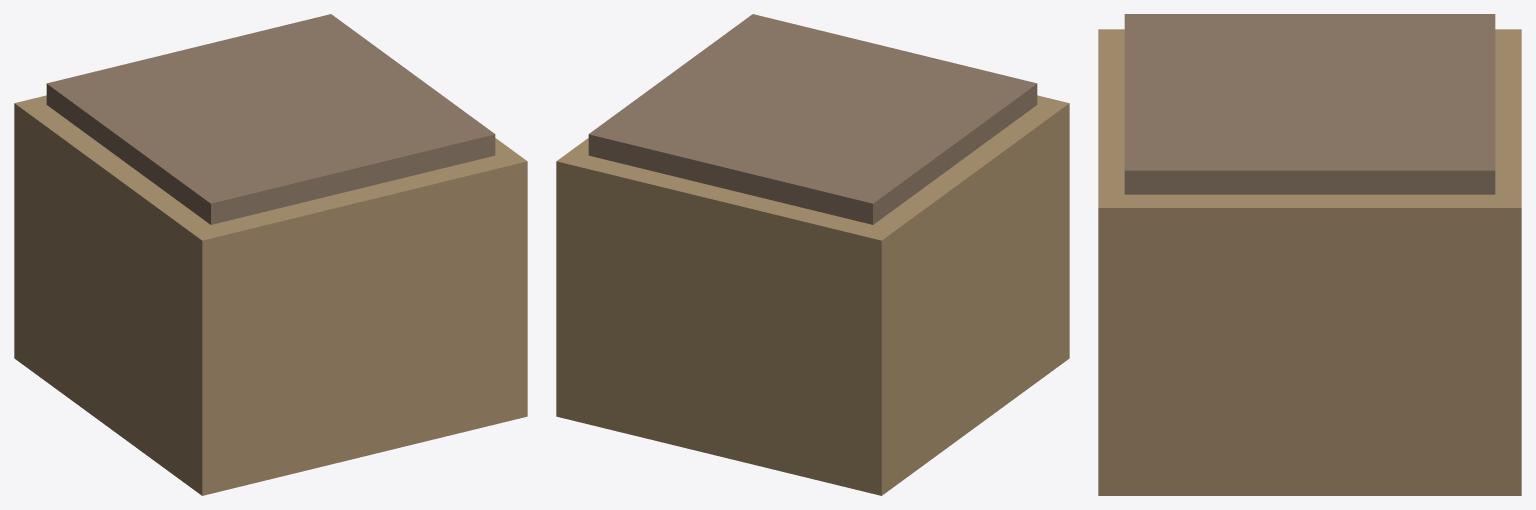
The model's file is stump.glb.
3 renders of one model, left to right at view 1: azimuth 30°, elevation 25°; view 2: azimuth 150°, elevation 25°; view 3: azimuth 270°, elevation 25°, orthographic. The views are drawn at different scales.
Parts seen in each view (by area): view 1: Prop_Stump; view 2: Prop_Stump; view 3: Prop_Stump.
Part boxes in pixels (x1,y1,x2,y2): Prop_Stump: (14, 14, 527, 495); Prop_Stump: (556, 14, 1069, 495); Prop_Stump: (1098, 14, 1521, 495).
Bounding box in the file's own units: 0.8 × 0.655 × 0.8.
